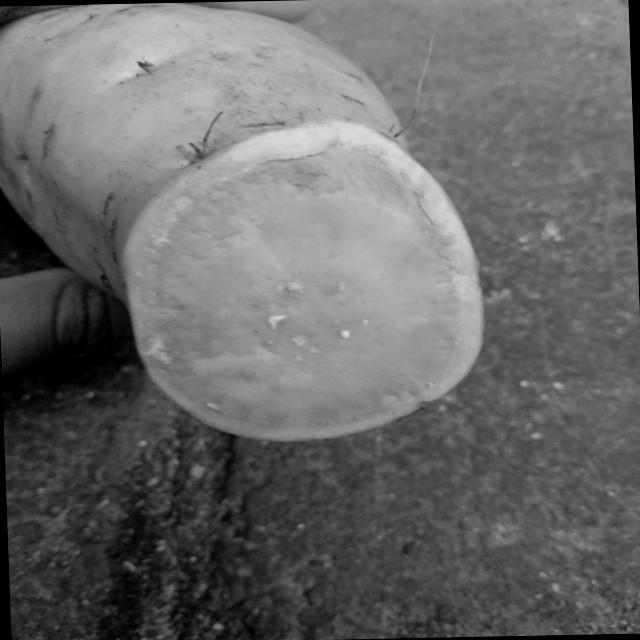Healthy Sweet Potato: (123, 122, 483, 441)
